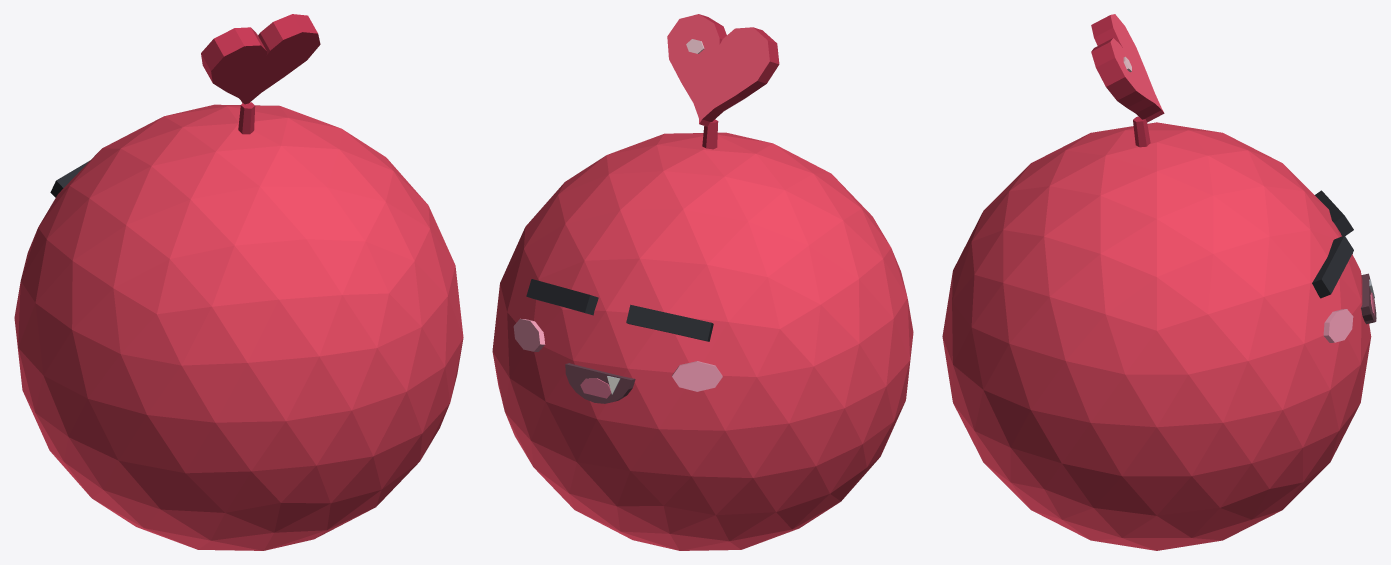
File: CH_Cano_T1_Blink.fbx
3 renders of one model, left to right at view 1: azimuth 30°, elevation 25°; view 2: azimuth 150°, elevation 25°; view 3: azimuth 270°, elevation 25°, orthographic. The views are drawn at different scales.
Parts seen in each view (by area): view 1: CH_Cano_T1_Blink; view 2: CH_Cano_T1_Blink; view 3: CH_Cano_T1_Blink.
Boxes of the visible parts, left/top/right/bottom form: CH_Cano_T1_Blink: left=14, top=14, right=463, bottom=550; CH_Cano_T1_Blink: left=492, top=14, right=913, bottom=550; CH_Cano_T1_Blink: left=942, top=14, right=1376, bottom=550.
Size of the model in its own units: 1 by 1.29 by 1.01.
